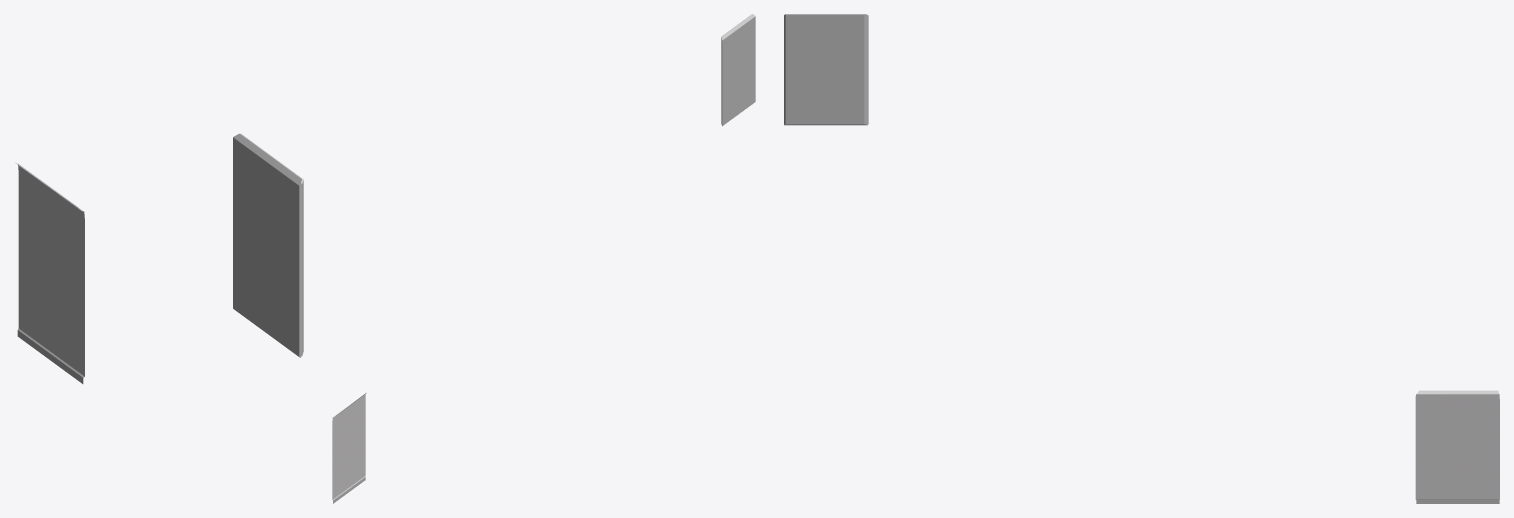
Rendered from SM_Wall_kitchen_7.fbx.
The picture shows the model from 3 angles, left to right: view 1: azimuth 30°, elevation 25°; view 2: azimuth 150°, elevation 25°; view 3: azimuth 270°, elevation 25°; orthographic projection. The views are drawn at different scales.
Parts seen in each view (by area): view 1: SM_Wall_kitchen_7_ConvexHulls, SM_Wall_kitchen_7; view 2: SM_Wall_kitchen_7_ConvexHulls, SM_Wall_kitchen_7; view 3: SM_Wall_kitchen_7, SM_Wall_kitchen_7_ConvexHulls.
Part boxes in pixels (x1,y1,x2,y2): SM_Wall_kitchen_7_ConvexHulls: (233, 133, 303, 357); SM_Wall_kitchen_7: (15, 162, 84, 383); SM_Wall_kitchen_7_ConvexHulls: (721, 14, 755, 126); SM_Wall_kitchen_7: (332, 393, 366, 503); SM_Wall_kitchen_7: (1415, 390, 1499, 503); SM_Wall_kitchen_7_ConvexHulls: (784, 14, 868, 125).
Size of the model in its own units: 754 by 2601 by 1620.
